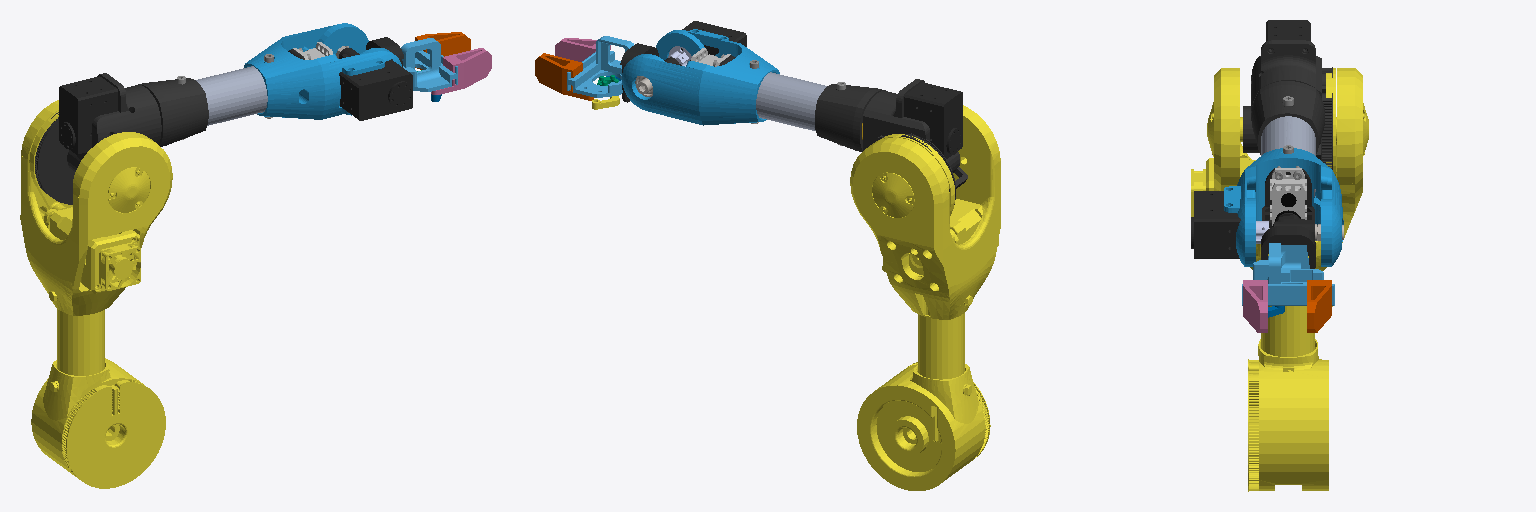
The robot description file, URDF, robot "niryo_one":
<?xml version="1.0" encoding="utf-8"?>
<!-- =================================================================================== -->
<!-- |    This document was autogenerated by xacro from niryo_one.urdf.xacro           | -->
<!-- |    EDITING THIS FILE BY HAND IS NOT RECOMMENDED                                 | -->
<!-- =================================================================================== -->
<!--
    niryo_one.urdf.xacro
    Copyright (C) 2017 Niryo
    All rights reserved.

    This program is free software: you can redistribute it and/or modify
    it under the terms of the GNU General Public License as published by
    the Free Software Foundation, either version 3 of the License, or
    (at your option) any later version.

    This program is distributed in the hope that it will be useful,
    but WITHOUT ANY WARRANTY; without even the implied warranty of
    MERCHANTABILITY or FITNESS FOR A PARTICULAR PURPOSE.  See the
    GNU General Public License for more details.

    You should have received a copy of the GNU General Public License
    along with this program.  If not, see <http://www.gnu.org/licenses/>.
-->
<robot name="niryo_one">
  <!-- Properties -->
  <!-- Links -->
  <link name="world"/>
  <link name="base_link">
    <visual>
      <origin rpy="0 0 0" xyz="0 0 0"/>
      <geometry>
        <mesh filename="package://niryo_one_urdf/meshes/collada/base_link.dae"/>
      </geometry>
    </visual>
    <collision>
      <origin rpy="0 0 0" xyz="0 0 0"/>
      <geometry>
        <mesh filename="package://niryo_one_urdf/meshes/stl/base_link.stl"/>
      </geometry>
    </collision>
  </link>
  <link name="shoulder_link">
    <visual>
      <origin rpy="0 0 0" xyz="0 0 0"/>
      <geometry>
        <mesh filename="package://niryo_one_urdf/meshes/collada/shoulder_link.dae"/>
      </geometry>
    </visual>
    <collision>
      <origin rpy="0 0 0" xyz="0 0 0"/>
      <geometry>
        <mesh filename="package://niryo_one_urdf/meshes/stl/shoulder_link.stl"/>
      </geometry>
    </collision>
  </link>
  <link name="arm_link">
    <visual>
      <origin rpy="0 0 0" xyz="0 0 0"/>
      <geometry>
        <mesh filename="package://niryo_one_urdf/meshes/collada/arm_link.dae"/>
      </geometry>
    </visual>
    <collision>
      <origin rpy="0 0 0" xyz="0 0 0"/>
      <geometry>
        <mesh filename="package://niryo_one_urdf/meshes/stl/arm_link.stl"/>
      </geometry>
    </collision>
  </link>
  <link name="elbow_link">
    <visual>
      <origin rpy="0 0 0" xyz="0 0 0"/>
      <geometry>
        <mesh filename="package://niryo_one_urdf/meshes/collada/elbow_link.dae"/>
      </geometry>
    </visual>
    <collision>
      <origin rpy="0 0 0" xyz="0 0 0"/>
      <geometry>
        <mesh filename="package://niryo_one_urdf/meshes/stl/elbow_link.stl"/>
      </geometry>
    </collision>
  </link>
  <link name="forearm_link">
    <visual>
      <origin rpy="0 0 0" xyz="0 0 0"/>
      <geometry>
        <mesh filename="package://niryo_one_urdf/meshes/collada/forearm_link.dae"/>
      </geometry>
    </visual>
    <collision>
      <origin rpy="0 0 0" xyz="0 0 0"/>
      <geometry>
        <mesh filename="package://niryo_one_urdf/meshes/stl/forearm_link.stl"/>
      </geometry>
    </collision>
  </link>
  <link name="wrist_link">
    <visual>
      <origin rpy="0 0 0" xyz="0 0 0"/>
      <geometry>
        <mesh filename="package://niryo_one_urdf/meshes/collada/wrist_link.dae"/>
      </geometry>
    </visual>
    <collision>
      <origin rpy="0 0 0" xyz="0 0 0"/>
      <geometry>
        <mesh filename="package://niryo_one_urdf/meshes/stl/wrist_link.stl"/>
      </geometry>
    </collision>
  </link>
  <link name="hand_link">
    <visual>
      <origin rpy="0 0 0" xyz="0 0 0"/>
      <geometry>
        <mesh filename="package://niryo_one_urdf/meshes/collada/hand_link.dae"/>
      </geometry>
    </visual>
    <collision>
      <origin rpy="0 0 0" xyz="0 0 0"/>
      <geometry>
        <mesh filename="package://niryo_one_urdf/meshes/stl/hand_link.stl"/>
      </geometry>
    </collision>
  </link>

  <link name="tool_link">
</link>

<link name="gripper_base">
    <visual>
      <origin rpy="0 0 0" xyz="0 0 0"/>
      <geometry>
        <mesh filename="package://niryo_one_urdf/Gripper1/G1_MainSupport.STL" scale = ".001 .001 .001" />
      </geometry>
    </visual>
    <collision>
      <origin rpy="0 0 0" xyz="0 0 0"/>
      <geometry>
        <mesh filename="package://niryo_one_urdf/Gripper1/G1_MainSupport.STL" scale = ".001 .001 .001" />
      </geometry>
    </collision>

  </link>
  <link name="servo_head">
    <visual>
      <origin rpy="0 0 0" xyz="0 0 0"/>
      <geometry>
        <mesh filename="package://niryo_one_urdf/Gripper1/G1_ServoHead.STL" scale = ".001 .001 .001"/>
      </geometry>
    </visual>
    <collision>
      <origin rpy="0 0 0" xyz="0 0 0"/>
      <geometry>
        <mesh filename="package://niryo_one_urdf/Gripper1/G1_ServoHead.STL" scale = ".001 .001 .001"/>
      </geometry>
    </collision>

  </link>

  <link name="control_rod_right">
    <visual>
      <origin rpy="0 0 0" xyz="0 0 0"/>
      <geometry>
        <mesh filename="package://niryo_one_urdf/Gripper1/G1_Rod.STL" scale = ".001 .001 .001"/>
      </geometry>
    </visual>
    <collision>
      <origin rpy="0 0 0" xyz="0 0 0"/>
      <geometry>
        <mesh filename="package://niryo_one_urdf/Gripper1/G1_Rod.STL" scale = ".001 .001 .001"/>
      </geometry>
    </collision>
  </link>

  <link name="control_rod_left">
    <visual>
      <origin rpy="0 0 0" xyz="0 0 0"/>
      <geometry>
        <mesh filename="package://niryo_one_urdf/Gripper1/G1_Rod.STL" scale = ".001 .001 .001"/>
      </geometry>
    </visual>
    <collision>
      <origin rpy="0 0 0" xyz="0 0 0"/>
      <geometry>
        <mesh filename="package://niryo_one_urdf/Gripper1/G1_Rod.STL" scale = ".001 .001 .001"/>
      </geometry>
    </collision>
  </link>

<link name="right_gripper">
    <visual>
      <origin rpy="0 0 0" xyz="0 0 0"/>
      <geometry>
        <mesh filename="package://niryo_one_urdf/Gripper1/G1_ClampRight.STL" scale = ".001 .001 .001"/>
      </geometry>
    </visual>
    <collision>
      <origin rpy="0 0 0" xyz="0 0 0"/>
      <geometry>
        <mesh filename="package://niryo_one_urdf/Gripper1/G1_ClampRight.STL" scale = ".001 .001 .001"/>
      </geometry>
    </collision>

  </link>
<link name="left_gripper">
    <visual>
      <origin rpy="0 0 0" xyz="0 0 0"/>
      <geometry>
        <mesh filename="package://niryo_one_urdf/Gripper1/G1_ClampLeft.STL" scale = ".001 .001 .001"/>
      </geometry>
    </visual>
    <collision>
      <origin rpy="0 0 0" xyz="0 0 0"/>
      <geometry>
        <mesh filename="package://niryo_one_urdf/Gripper1/G1_ClampLeft.STL" scale = ".001 .001 .001"/>
      </geometry>
    </collision>

  </link>

  <!--Disable_Collisions -->
  <disable_collision joint1="right_gripper" joint2="gripper_base">
  </disable_collision>
  <disable_collision joint1="left_gripper" joint2="gripper_base">
  </disable_collision>

  <!--Joints -->
  <joint name="joint_world" type="fixed">
    <parent link="world"/>
    <child link="base_link"/>
    <origin rpy="0 0 0" xyz="0 0 0.63"/>
  </joint>
  <joint name="joint_1" type="revolute">
    <parent link="base_link"/>
    <child link="shoulder_link"/>
    <origin rpy="0 0 0" xyz="0 0 0.103"/>
    <axis xyz="0 0 1"/>
    <limit effort="1" lower="-3.05433" upper="3.05433" velocity="1.0"/>
  </joint>
  <joint name="joint_2" type="revolute">
    <parent link="shoulder_link"/>
    <child link="arm_link"/>
    <origin rpy="1.5707963268 -1.5707963268 0" xyz="0 0 0.08"/>
    <limit effort="1" lower="-1.91986" upper="0.640187" velocity="1.0"/>
    <axis xyz="0 0 1"/>
  </joint>
  <joint name="joint_3" type="revolute">
    <parent link="arm_link"/>
    <child link="elbow_link"/>
    <origin rpy="0 0 -1.5707963268" xyz="0.21 0.0 0"/>
    <limit effort="1" lower="-1.397485" upper="1.5707963268" velocity="1.0"/>
    <axis xyz="0 0 1"/>
  </joint>
  <joint name="joint_4" type="revolute">
    <parent link="elbow_link"/>
    <child link="forearm_link"/>
    <origin rpy="0 1.5707963268 0" xyz="0.0415 0.03 0"/>
    <limit effort="1" lower="-3.05433" upper="3.05433" velocity="1.0"/>
    <axis xyz="0 0 1"/>
  </joint>
  <joint name="joint_5" type="revolute">
    <parent link="forearm_link"/>
    <child link="wrist_link"/>
    <origin rpy="0 -1.5707963268 0" xyz="0 0 0.18"/>
    <limit effort="1" lower="-1.74533" upper="1.91986" velocity="1.0"/>
    <axis xyz="0 0 1"/>
  </joint>
  <joint name="joint_6" type="revolute">
    <parent link="wrist_link"/>
    <child link="hand_link"/>
    <origin rpy="0 1.5707963268 0" xyz="0.0164 -0.0055 0"/>
    <limit effort="1" lower="-2.57436" upper="2.57436" velocity="1.0"/>
    <axis xyz="0 0 1"/>
  </joint>
  <joint name="hand_tool_joint" type="fixed">
    <parent link="hand_link"/>
    <child link="tool_link"/>
    <origin rpy="-1.5707963268 -1.5707963268 0" xyz="0 0 0.0073"/>
  </joint>

  <joint name="hand_tool_joint" type="fixed">
    <parent link="tool_link"/>
    <child link="gripper_base"/>
    <origin rpy="1.5707 0 -1.5707" xyz="0.0246 0 -0.01475"/>
  </joint>

  <joint name="servo_head_joint" type="fixed">
    <parent link="gripper_base"/>
    <child link="servo_head"/>
    <origin rpy="0 0 0" xyz="0 0 0"/>
  </joint>
  <joint name="control_rod_left" type="fixed">
    <parent link="servo_head"/>
    <child link="control_rod_left"/>
    <origin rpy="0 0 0" xyz="0 0 0"/>
  </joint>
<joint name="control_rod_right" type="fixed">
    <parent link="servo_head"/>
    <child link="control_rod_right"/>
    <origin rpy="0 3.141 0" xyz="0 0 0"/>
  </joint>
  <joint name="gripper_joint_right" type="prismatic">
    <parent link="control_rod_right"/>
    <child link="right_gripper"/>
    <origin rpy="0 3.141 0" xyz="0 0 0"/>
    <limit effort="1" lower="-0.0257436" upper="0.0257436" velocity="1.0"/>
    <mimic joint = "gripper_joint_left" multiplier = "-1"/> 
  </joint>
<joint name="gripper_joint_left" type="prismatic">
    <parent link="control_rod_left"/>
    <child link="left_gripper"/>
    <origin rpy="0 0 0" xyz="0 0 0"/>
    <limit effort="1" lower="-0.0257436" upper="0.0257436" velocity="1.0"/>
  </joint>
</robot>

--- What the picture shows (computed from the rendered views, not written in the file) ---
The picture shows the robot from 3 angles, left to right: view 1: azimuth 30°, elevation 25°; view 2: azimuth 150°, elevation 25°; view 3: azimuth 270°, elevation 25°; orthographic projection.
Robot: niryo_one — 15 links, 14 joints (6 revolute, 2 prismatic, 6 fixed); root link world; default pose: every joint at zero.
Links seen in each view (by area): view 1: arm_link, forearm_link, elbow_link, gripper_base, left_gripper, right_gripper, wrist_link; view 2: arm_link, forearm_link, elbow_link, gripper_base, right_gripper, wrist_link, left_gripper; view 3: arm_link, forearm_link, elbow_link, gripper_base, wrist_link, left_gripper, right_gripper, hand_link.
Boxes of the visible links, bbox=[...] form: arm_link: bbox=[20, 100, 172, 488]; forearm_link: bbox=[138, 23, 412, 146]; elbow_link: bbox=[35, 73, 161, 204]; gripper_base: bbox=[401, 38, 457, 91]; left_gripper: bbox=[431, 48, 491, 94]; right_gripper: bbox=[415, 32, 470, 69]; wrist_link: bbox=[288, 42, 359, 59]; arm_link: bbox=[850, 105, 1000, 490]; forearm_link: bbox=[622, 21, 885, 151]; elbow_link: bbox=[862, 79, 967, 204]; gripper_base: bbox=[567, 36, 633, 97]; right_gripper: bbox=[535, 53, 593, 100]; wrist_link: bbox=[635, 48, 735, 96]; left_gripper: bbox=[555, 38, 610, 61]; arm_link: bbox=[1191, 68, 1368, 491]; forearm_link: bbox=[1191, 81, 1343, 266]; elbow_link: bbox=[1243, 20, 1332, 169]; gripper_base: bbox=[1242, 243, 1334, 305]; wrist_link: bbox=[1262, 166, 1343, 240]; left_gripper: bbox=[1243, 280, 1267, 332]; right_gripper: bbox=[1307, 280, 1331, 332]; hand_link: bbox=[1261, 226, 1315, 268].
Size in the robot's own frame: 0.3673 by 0.1147 by 0.3195 metres.
Meshes: 12 distinct files referenced, 11 mesh visuals loaded (5 binary STL, 5 Collada DAE); not drawn: 2 (reference not matched to a file when rendering).